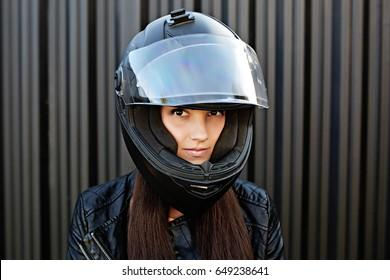helmet: (97, 1, 286, 198)
